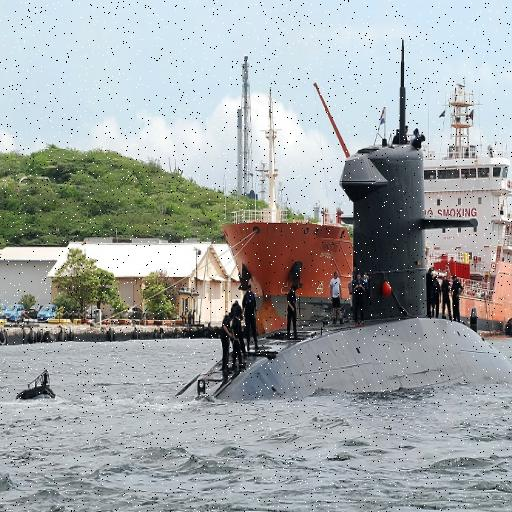submarine: (7, 38, 512, 434)
